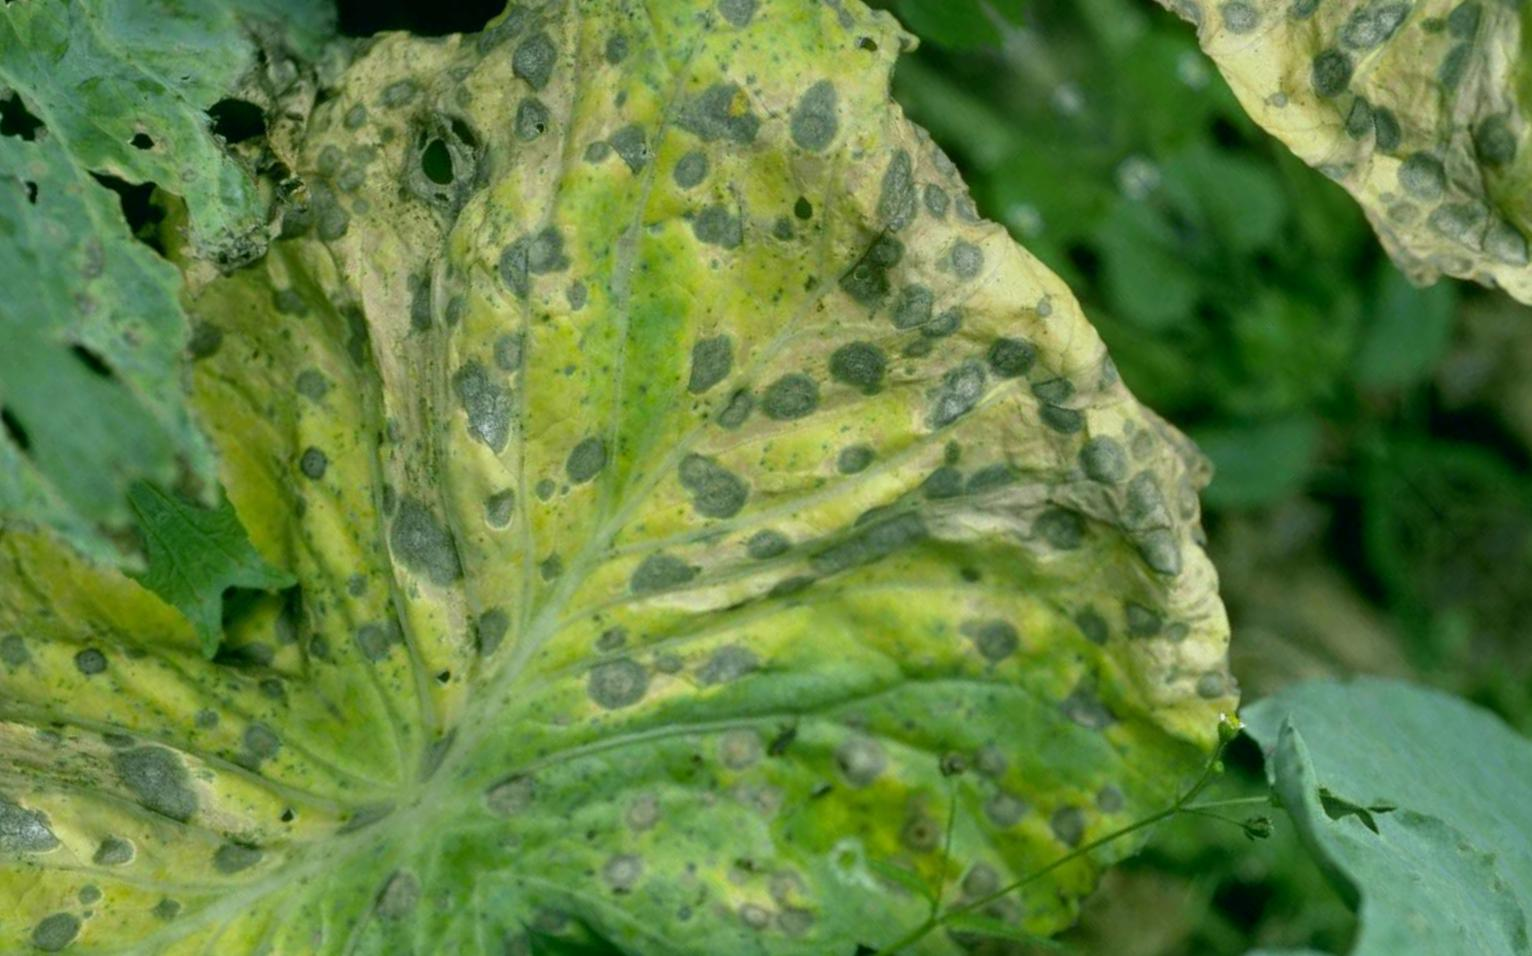Tomato leaf bacterial spot: (0, 0, 1434, 956)
